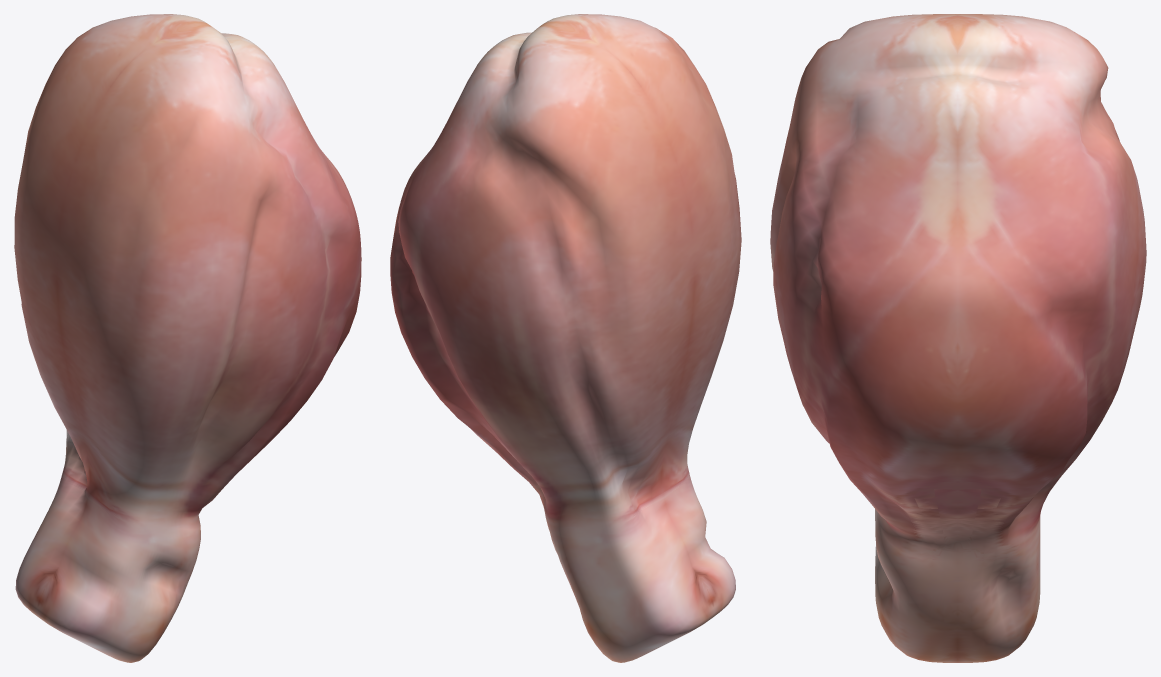
Rendered from chicken leg_meat.obj.
The picture shows the model from 3 angles, left to right: view 1: azimuth 30°, elevation 25°; view 2: azimuth 150°, elevation 25°; view 3: azimuth 270°, elevation 25°; orthographic projection. The views are drawn at different scales.
Visible parts, largest first — view 1: Cube.001_Cube.002; view 2: Cube.001_Cube.002; view 3: Cube.001_Cube.002.
Part boxes in pixels (bbox=[...]): Cube.001_Cube.002: bbox=[14, 14, 361, 662]; Cube.001_Cube.002: bbox=[390, 14, 741, 662]; Cube.001_Cube.002: bbox=[770, 14, 1146, 662].
Bounding box in the file's own units: 2.37 × 4.63 × 2.33.
